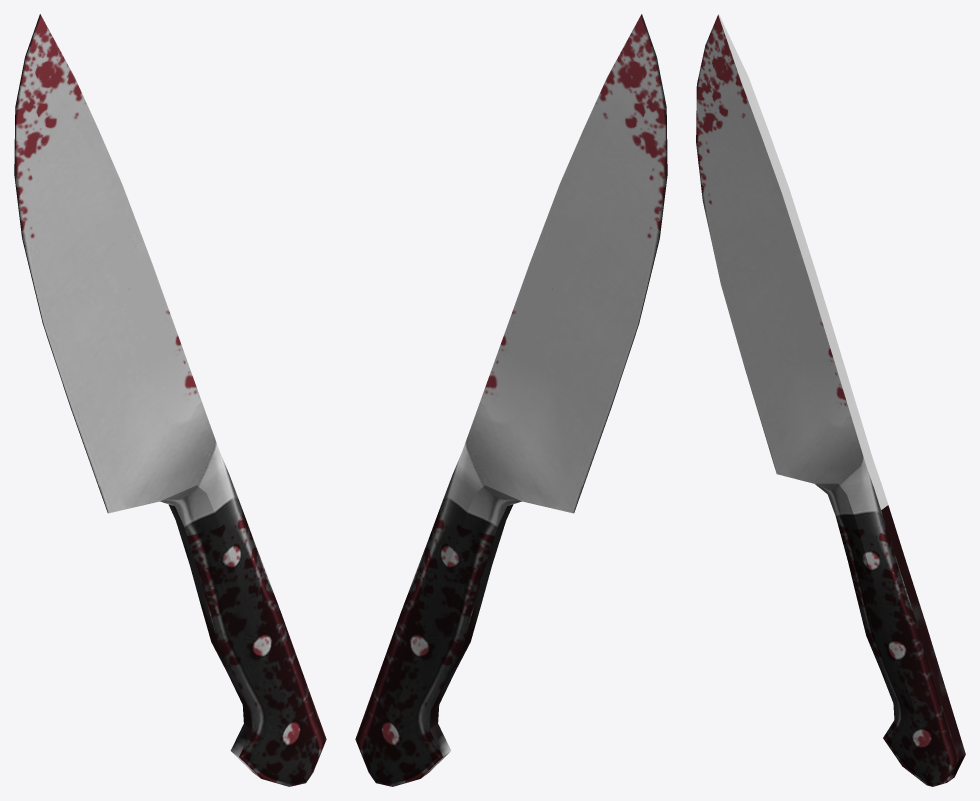
The model's file is Faca.fbx.
3 renders of one model, left to right at view 1: azimuth 30°, elevation 25°; view 2: azimuth 150°, elevation 25°; view 3: azimuth 330°, elevation 25°, orthographic. The views are drawn at different scales.
Visible parts, largest first — view 1: Faca; view 2: Faca; view 3: Faca.
Boxes of the visible parts, x1,y1,x2,y2 form: Faca: (14, 14, 326, 786); Faca: (355, 14, 667, 786); Faca: (696, 14, 965, 786).
Size of the model in its own units: 97 by 250 by 9.74.
1 material, 1 textured.
